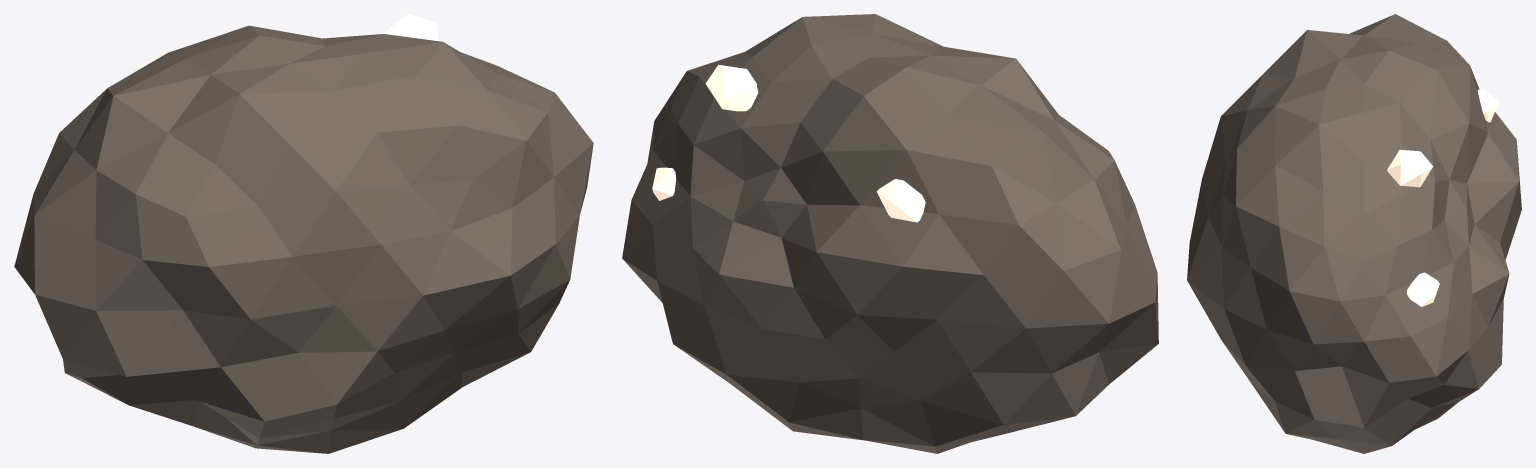
File: asteroid_1.glb
The picture shows the model from 3 angles, left to right: view 1: azimuth 30°, elevation 25°; view 2: azimuth 150°, elevation 25°; view 3: azimuth 270°, elevation 25°; orthographic projection. The views are drawn at different scales.
Visible parts, largest first — view 1: Body, Vein2; view 2: Body, Vein2, Vein3, Vein1; view 3: Body, Vein2, Vein1, Vein3.
Part boxes in pixels (x1,y1,x2,y2): Body: (14, 25, 593, 453); Vein2: (382, 14, 438, 40); Body: (622, 14, 1158, 453); Vein2: (705, 64, 758, 111); Vein3: (877, 179, 925, 222); Vein1: (652, 167, 676, 200); Body: (1187, 14, 1521, 453); Vein2: (1387, 149, 1432, 187); Vein1: (1407, 272, 1439, 306); Vein3: (1477, 89, 1498, 122).
Bounding box in the file's own units: 2.51 × 1.83 × 1.56.
